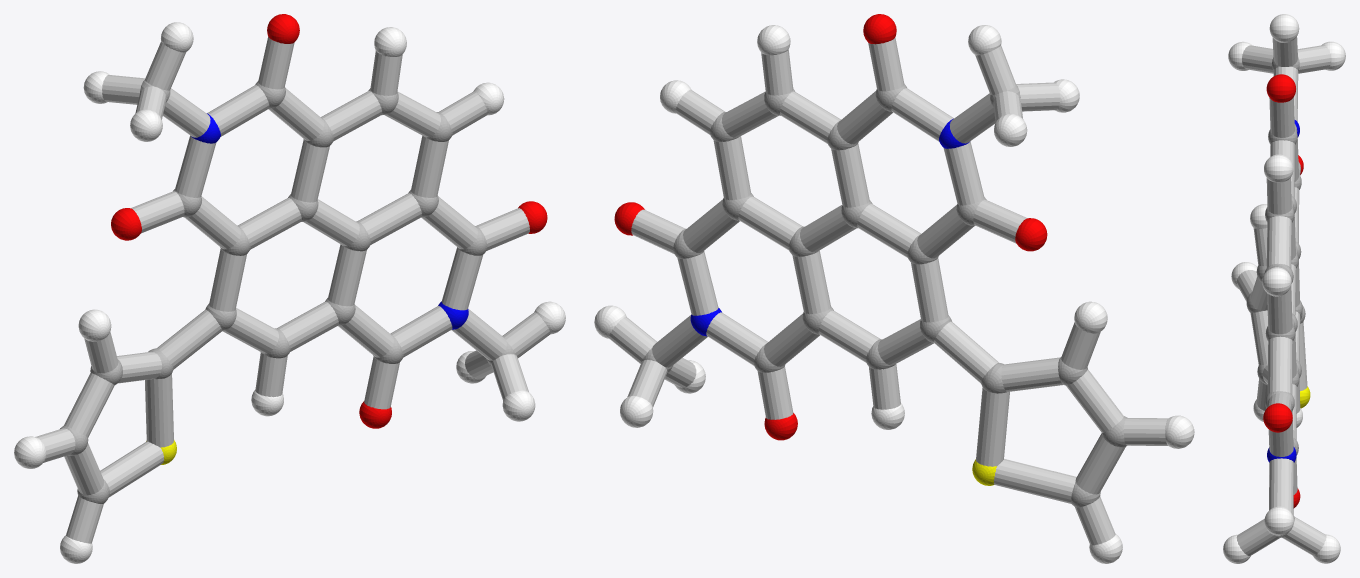
The model's file is Dimethyl_Naphthalene_Dicarboximide_Phi_15_Theta_350_Thiophene.glb.
The picture shows the model from 3 angles, left to right: view 1: azimuth 30°, elevation 25°; view 2: azimuth 150°, elevation 25°; view 3: azimuth 270°, elevation 25°; orthographic projection. The views are drawn at different scales.
Visible parts, largest first — view 1: grp14119, grp7241, grp1, grp12309, grp11585; view 2: grp14119, grp7241, grp1, grp12309, grp11585; view 3: grp14119, grp7241, grp1, grp12309, grp11585, grp13757.
Part boxes in pixels (box(x1,y1,x2,y2)): grp14119: box(35, 37, 550, 543); grp7241: box(14, 22, 565, 563); grp1: box(60, 80, 515, 503); grp12309: box(111, 14, 547, 428); grp11585: box(191, 113, 468, 329); grp14119: box(609, 37, 1168, 545); grp7241: box(594, 25, 1194, 563); grp1: box(642, 84, 1127, 507); grp12309: box(614, 14, 1047, 440); grp11585: box(690, 118, 969, 336); grp14119: box(1236, 37, 1331, 555); grp7241: box(1223, 14, 1345, 563); grp1: box(1246, 57, 1305, 537); grp12309: box(1263, 74, 1303, 508); grp11585: box(1267, 120, 1299, 462); grp13757: box(1300, 386, 1310, 408).
Bounding box in the file's own units: 11.92 × 10.18 × 2.49.
